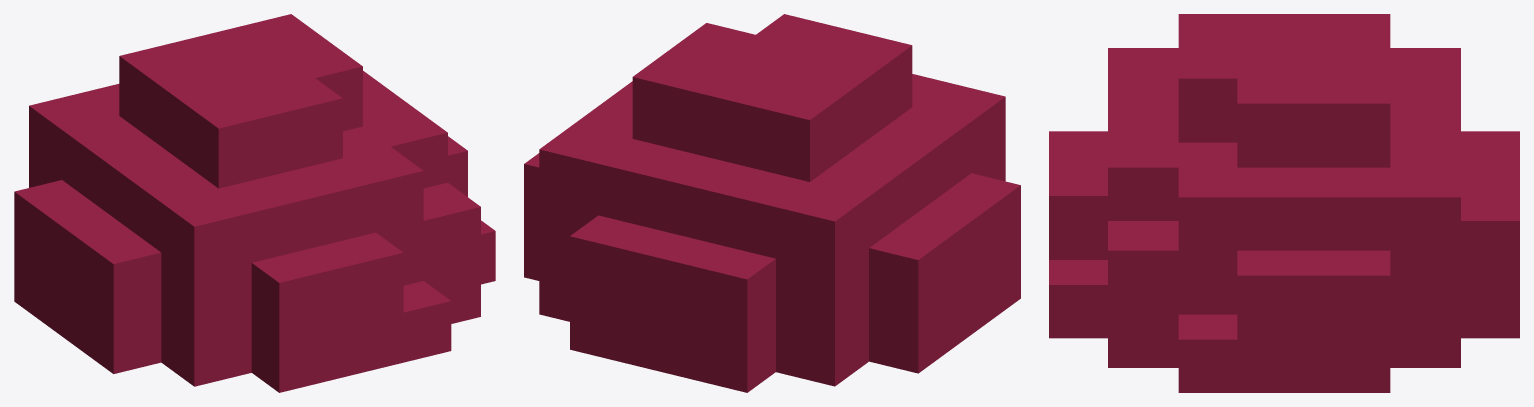
The model's file is ZonaMundoPelea-11-RocaPequeña2.obj.
3 renders of one model, left to right at view 1: azimuth 30°, elevation 25°; view 2: azimuth 150°, elevation 25°; view 3: azimuth 270°, elevation 25°, orthographic. The views are drawn at different scales.
Visible parts, largest first — view 1: RocaPequeña2; view 2: RocaPequeña2; view 3: RocaPequeña2.
Part boxes in pixels (x1,y1,x2,y2): RocaPequeña2: (14, 14, 495, 392); RocaPequeña2: (524, 14, 1020, 392); RocaPequeña2: (1049, 14, 1519, 392).
Bounding box in the file's own units: 4 × 2.2 × 4.
Materials: 1 (1 with a texture image).
